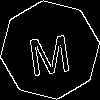M: (25, 25, 73, 77)
